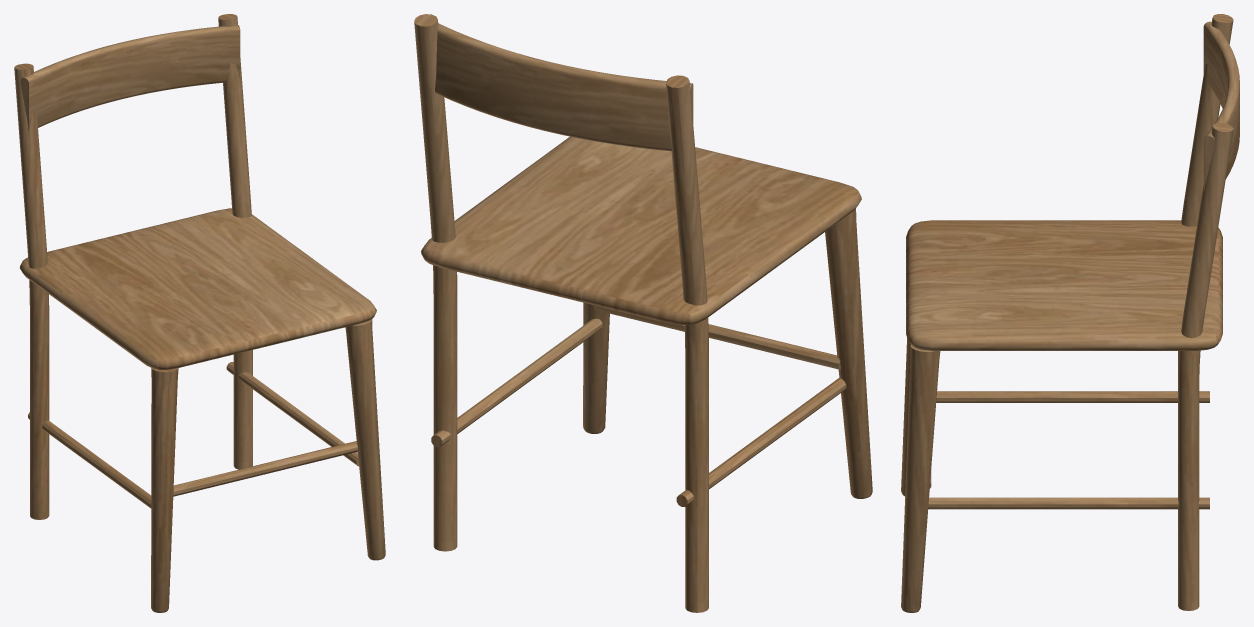
Rendered from silla_nordica_roble.glb.
3 renders of one model, left to right at view 1: azimuth 30°, elevation 25°; view 2: azimuth 150°, elevation 25°; view 3: azimuth 270°, elevation 25°, orthographic. The views are drawn at different scales.
Visible parts, largest first — view 1: silla_nordica_roble; view 2: silla_nordica_roble; view 3: silla_nordica_roble.
Part boxes in pixels (x1=…): silla_nordica_roble: x1=14, y1=14, x2=385, y2=612; silla_nordica_roble: x1=414, y1=14, x2=872, y2=612; silla_nordica_roble: x1=901, y1=14, x2=1239, y2=612.
Bounding box in the file's own units: 0.4446 × 0.8026 × 0.5129.
1 material, 1 textured.
